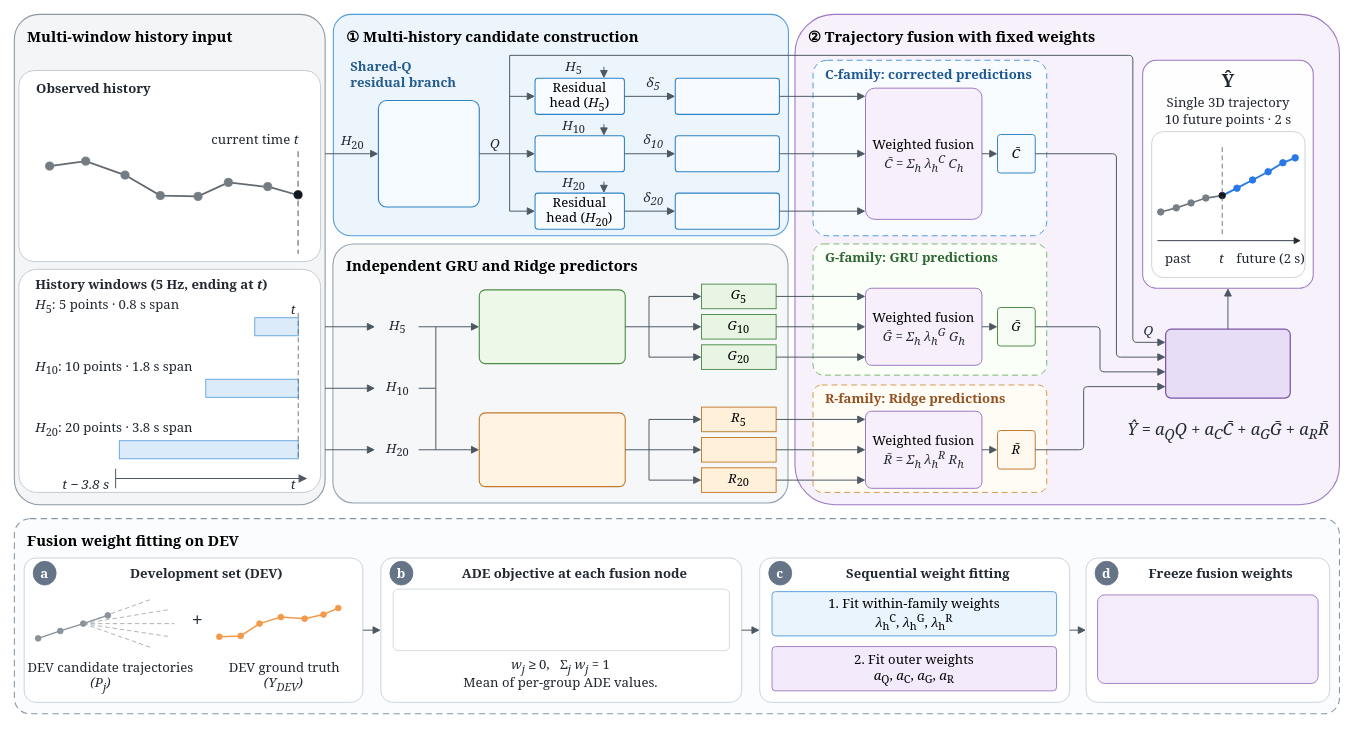
Image size: 1355x729. Some labels were removed from this diagram. Here are the shapes that lost their labels. From the top down, the centre of each, then its label:
At (727,96): "C 5 = Q + δ 5".
At (428,153): "Q 20 Shared predictor (QCNet-based) runs once".
At (579,153): "Residual head ( H 10 )".
At (727,153): "C 10 = Q + δ 10".
At (727,210): "C 20 = Q + δ 20".
At (551,326): "3 independent GRUs H h → G h".
At (1228,363): "Outer fusion fixed weights".
At (551,449): "3 independent Ridge models H h → R h".
At (738,449): "R 10".
At (560,619): "w ⋆ = arg min w MacroADE DEV (Σ j w j P j , Y DEV )".
At (1207,639): "Use fixed weights during inference".
